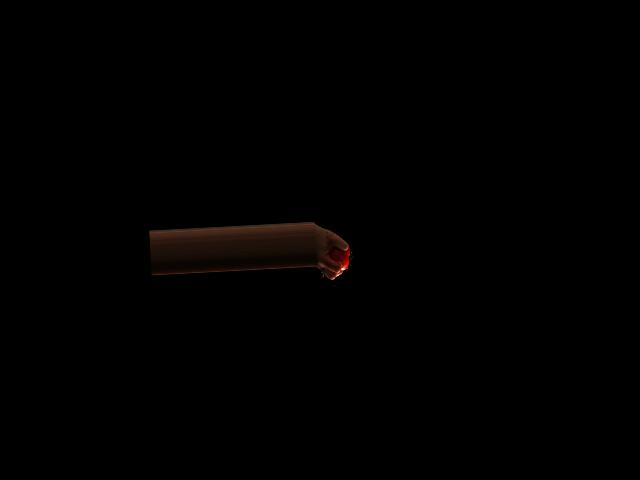tomato: (328, 245, 351, 270)
